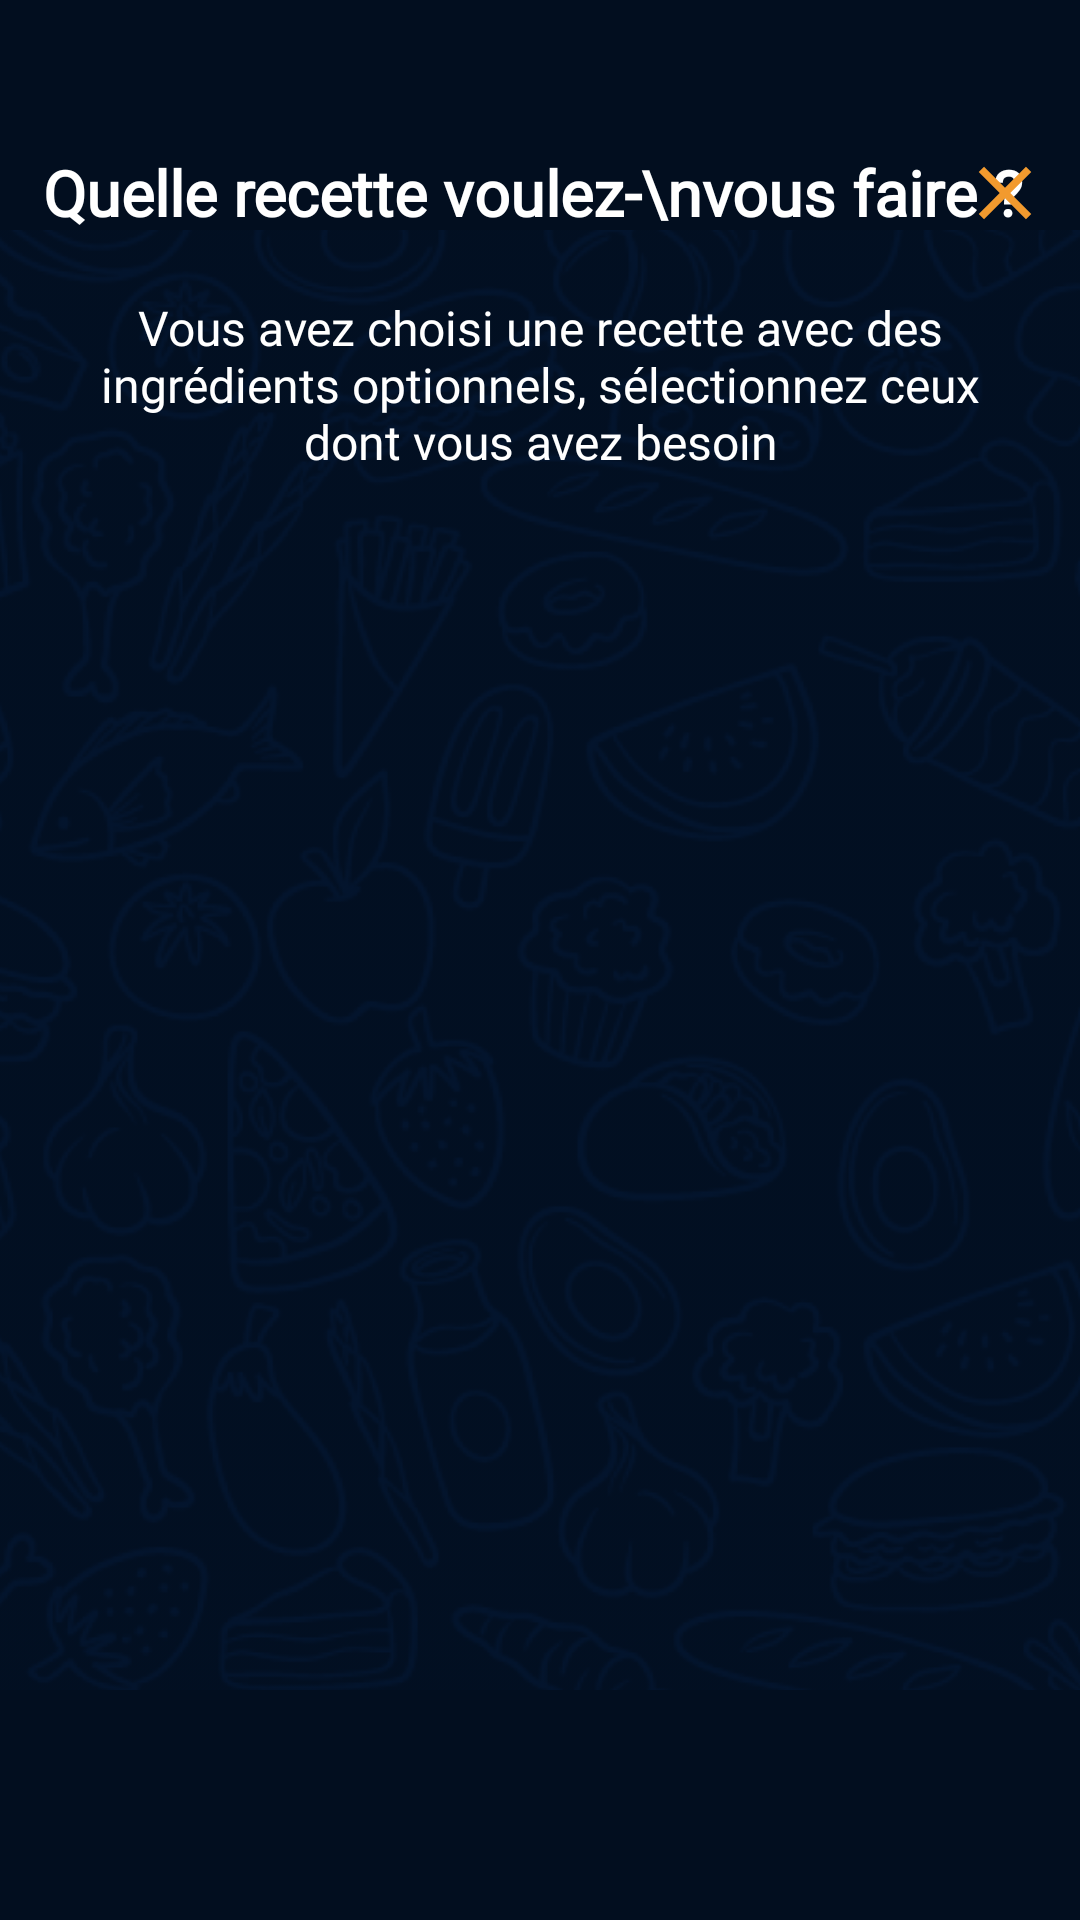

Icon click points for this 1080×1920 phone screenshot, format (x=x, y=y):
close: (x=1005, y=193)
